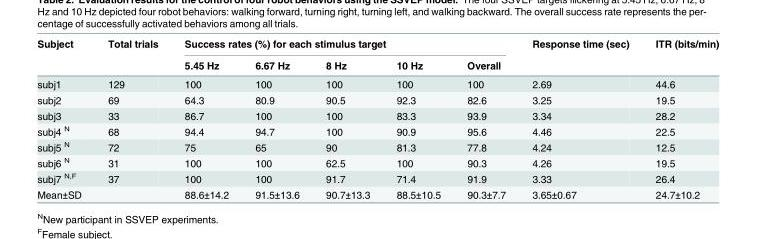table: (36, 37, 718, 200)
table column: (518, 37, 641, 200), (641, 37, 718, 200), (94, 37, 170, 200), (170, 37, 241, 200), (311, 37, 382, 200), (382, 37, 453, 200), (241, 37, 311, 200), (453, 37, 518, 200), (36, 37, 94, 200)
table column header: (36, 37, 718, 74)
table row: (36, 53, 718, 74), (36, 74, 718, 91), (36, 169, 718, 186), (36, 37, 718, 53), (36, 91, 718, 107), (36, 122, 718, 138), (36, 138, 718, 154), (36, 107, 718, 122), (36, 154, 718, 169), (36, 186, 718, 200)
table spanning cell: (170, 37, 518, 53), (518, 37, 641, 74), (641, 37, 718, 74), (94, 37, 170, 74), (36, 37, 94, 74)
